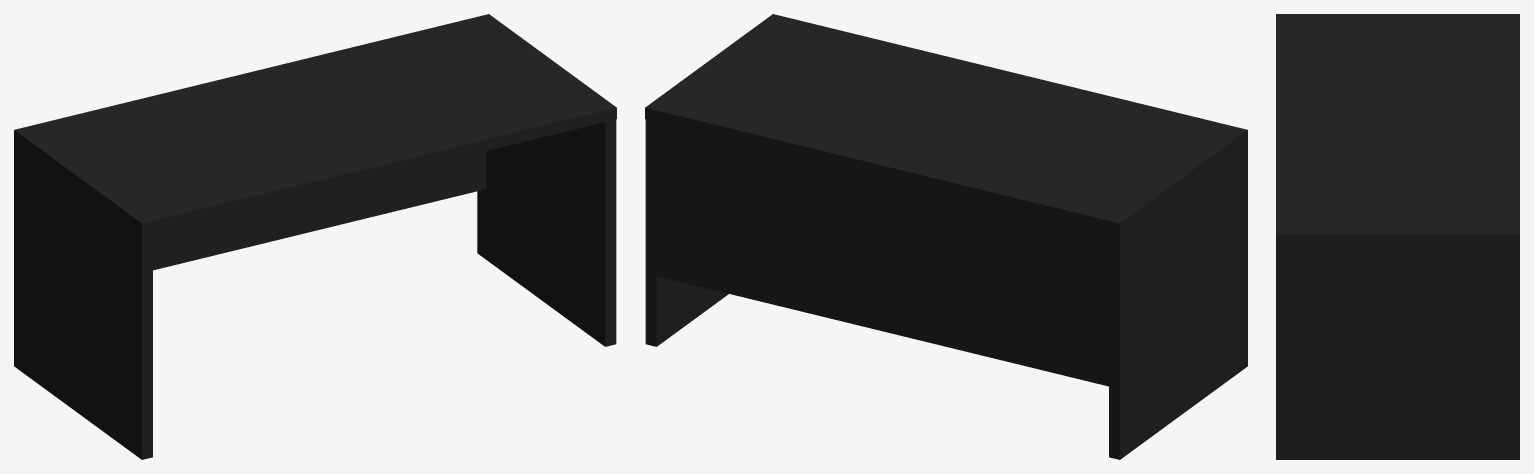
Rendered from Prop_Desk_04.fbx.
The picture shows the model from 3 angles, left to right: view 1: azimuth 30°, elevation 25°; view 2: azimuth 150°, elevation 25°; view 3: azimuth 270°, elevation 25°; orthographic projection. The views are drawn at different scales.
Visible parts, largest first — view 1: Prop_Desk_04; view 2: Prop_Desk_04; view 3: Prop_Desk_04.
Boxes of the visible parts, x1,y1,x2,y2 form: Prop_Desk_04: [14, 14, 616, 459]; Prop_Desk_04: [645, 14, 1247, 459]; Prop_Desk_04: [1276, 14, 1519, 459].
Size of the model in its own units: 150 by 71.38 by 70.
